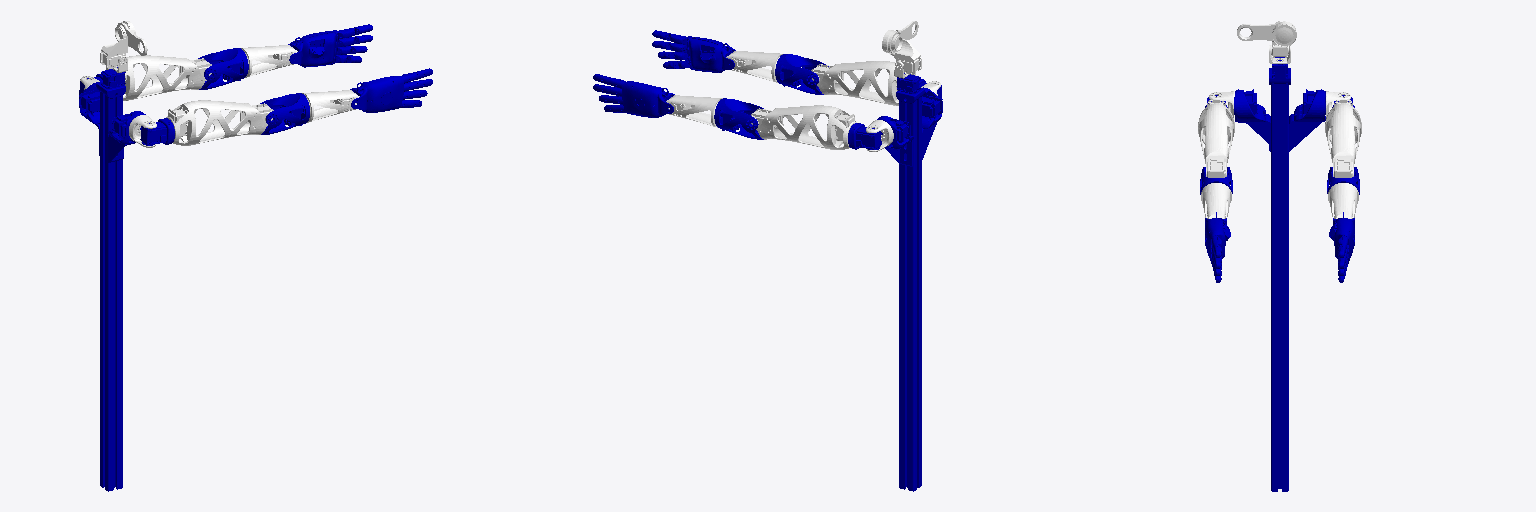
robot.urdf — Leachy w hand:
<?xml version="1.0"?>
<robot name="Leachy w hand">

  <material name="blue">
    <color rgba="0 0 0.8 1"/>
  </material>

  <material name="white">
    <color rgba="1 1 1 1"/>
  </material>

  <material name="red">
    <color rgba="0.8 0 0 1"/>
  </material>
<link name="world" />
<link name="base">
    <visual>
      <geometry>
        <mesh filename="package://meshes/trunk-visual.stl"></mesh>
      </geometry>
      <material name="blue"/>
    </visual>
    <inertial>
      <inertia ixx= "1.043e-4" ixy= "6.147e-6" ixz= "-1.971e-6" iyy= "1.364e-4" iyz= "1.466e-5" izz= "1.403e-4" ></inertia>
      <mass value="0.221"></mass>
    </inertial>
    <collision>
      <origin xyz="0 0 0" rpy="0 0 0"></origin>
      <geometry>
        <mesh filename="package://meshes/trunk-respondable.stl"></mesh>
      </geometry>
    </collision>
  </link>
  <joint name="world_to_base_link" type="fixed">
    <parent link="world"/>
    <child link="base"/>
  </joint>
  <link name="l_shoulder">
    <visual>
      <origin xyz="0 0 0" rpy="0 0 0"></origin>
      <geometry>
        <mesh filename="package://meshes/shoulder-left-visual.stl"></mesh>
      </geometry>
      <material name="white"/>
    </visual>
    <inertial>
      <inertia ixx= "1.299e-5" ixy= "5.557e-10" ixz= "-2.973e-10" iyy= "2.323e-5" iyz= "-8.199e-8" izz= "2.227e-5" ></inertia>
      <mass value="0.036"></mass>
    </inertial>
    <collision>
      <origin xyz="0 0 0" rpy="0 0 0"></origin>
      <geometry>
        <mesh filename="package://meshes/shoulder-left-respondable.stl"></mesh>
      </geometry>
    </collision>

  </link>

  <link name="l_shoulder_to_arm">
    <visual>
      <geometry>
        <mesh filename="package://meshes/shoulder-x-visual.stl"></mesh>
      </geometry>
      <origin rpy="0 0 0" xyz="0 0 0"/>
      <material name="blue"/>
    </visual>
    <inertial>
      <inertia ixx= "6.811e-5" ixy= "-2.299e-10" ixz= "-4.502e-7" iyy= "7.593e-5" iyz= "-1.674e-9" izz= "4.248e-5" ></inertia>
      <mass value="0.155"></mass>
    </inertial>
    <collision>
      <origin xyz="0 0 0" rpy="0 0 0"></origin>
      <geometry>
        <mesh filename="package://meshes/shoulder-x-respondable.stl"></mesh>
      </geometry>
    </collision>
  </link>

  <link name="l_upper_arm">
    <visual>
      <geometry>
        <mesh filename="package://meshes/upper-arm-visual.stl"></mesh>
      </geometry>
      <origin rpy="0 0 0" xyz="0 0 0"/>
      <material name="white"/>
    </visual>
    <inertial>
      <inertia ixx= "4.171e-3" ixy= "1.333e-7" ixz= "-2.900e-4" iyy= "4.276e-3" iyz= "1.465e-6" izz= "3.177e-4" ></inertia>
      <mass value="0.430"></mass>
    </inertial>
    <collision>
      <origin xyz="0 0 0" rpy="0 0 0"></origin>
      <geometry>
        <mesh filename="package://meshes/upper-arm-respondable.stl"></mesh>
      </geometry>
    </collision>
  </link>

  <link name="l_forearm">
    <visual>
      <origin xyz="0 0 0" rpy="0 0 0"></origin>
      <geometry>
        <mesh filename="package://meshes/forearm-visual.stl"></mesh>
      </geometry>
      <origin rpy="0 0 0" xyz="0 0 0"/>
      <material name="blue"/>
    </visual>
    <inertial>
      <inertia ixx= "1.724e-4" ixy= "-1.733e-8" ixz= "1.854e-5" iyy= "1.815e-4" iyz= "-4.191e-8" izz= "9.299e-5" ></inertia>
      <mass value="0.129"></mass>
    </inertial>
    <collision>
      <origin xyz="0 0 0" rpy="0 0 0"></origin>
      <geometry>
        <mesh filename="package://meshes/forearm-respondable.stl"></mesh>
      </geometry>
    </collision>
  </link>

  <link name="l_wrist">
    <visual>
      <origin xyz="0 0 0" rpy="0 0 0"></origin>
      <geometry>
        <mesh filename="package://meshes/wrist-visual.stl"></mesh>
      </geometry>
      <origin rpy="0 0 0" xyz="0 0 0"/>
      <material name="white"/>
    </visual>
    <inertial>
      <inertia ixx= "2.215e-4" ixy= "-2.163e-8" ixz= "-4.702e-6" iyy= "2.306e-4" iyz= "-6.577e-7" izz= "5.075e-5" ></inertia>
      <mass value="0.115"></mass>
    </inertial>
    <collision>
      <origin xyz="0 0 0" rpy="0 0 0"></origin>
      <geometry>
        <mesh filename="package://meshes/wrist-respondable.stl"></mesh>
      </geometry>
    </collision>
  </link>

  <link name="l_gripper"> <!--l_open_bionics_hand-->
    <visual>
      <geometry>
        <mesh filename="package://meshes/open_bionics_hand_left-visual.stl"></mesh>
      </geometry>
      <origin rpy="0 0 0" xyz="0 0 0"/>
      <material name="blue"/>
    </visual>
    <inertial>
      <inertia ixx= "3.861e-6" ixy= "-2.805e-9" ixz= "-8.067e-8" iyy= "3.694e-6" iyz= "-7.689e-8" izz= "4.987e-6" ></inertia>
      <mass value="0.009"></mass>
    </inertial>
    <collision>
      <origin xyz="0 0 0" rpy="0 0 0"></origin>
      <geometry>
        <mesh filename="package://meshes/open_bionics_hand_left-respondable.stl"></mesh>
      </geometry>
    </collision>

  </link>


  <joint name="l_shoulder_pitch" type="revolute">
    <parent link="base"/>
    <child link="l_shoulder"/>
    <origin rpy="0 -1.5 0" xyz="0 0.14 0"/>
    <axis xyz="0 1 0"/>
    <limit lower="-1.5708" upper="3.14159"/>
  </joint>

  <joint name="l_shoulder_roll" type="revolute">
    <parent link="l_shoulder"/>
    <child link="l_shoulder_to_arm"/>
    <origin rpy="0 0 0" xyz="0 0 0"/>
    <axis xyz="1 0 0"/>
    <limit lower="-0.174533" upper="3.14159"/>
  </joint>

  <joint name="l_arm_yaw" type="revolute">
    <parent link="l_shoulder_to_arm"/>
    <child link="l_upper_arm"/>
    <origin rpy="0 0 0" xyz="0 0 0"/>
    <axis xyz="0 0 1"/>
    <limit lower="-1.5708" upper="1.5708"/>
  </joint>

  <joint name="l_elbow_pitch" type="revolute">
    <parent link="l_upper_arm"/>
    <child link="l_forearm"/>
    <origin rpy="0 0 0" xyz="0 0 -0.30745"/>
    <axis xyz="0 1 0"/>
    <limit lower="-2.18166" upper="0"/>
  </joint>

  <joint name="l_forearm_yaw" type="revolute">
    <parent link="l_forearm"/>
    <child link="l_wrist"/>
    <origin rpy="0 0 0" xyz="0 0 0"/>
    <axis xyz="0 0 1"/>
    <limit lower="-2.61799" upper="2.61799"/>
  </joint>

  <joint name="l_wrist_pitch" type="revolute">
    <parent link="l_wrist"/>
    <child link="l_gripper"/>
    <origin rpy="0 0 0" xyz="0 0 -0.22415"/>
    <axis xyz="0 1 0"/>
    <limit lower="-1.22173" upper="1.22173"/>
  </joint>

   <link name="r_shoulder">
    <visual>
      <origin xyz="0 0 0" rpy="0 0 0"></origin>
      <geometry>
        <mesh filename="package://meshes/shoulder-visual.stl"></mesh>
      </geometry>
      <material name="white"/>
    </visual>
    <inertial>
      <inertia ixx= "1.299e-5" ixy= "5.557e-10" ixz= "-2.973e-10" iyy= "2.323e-5" iyz= "-8.199e-8" izz= "2.227e-5" ></inertia>
      <mass value="0.036"></mass>
    </inertial>
    <collision>
      <origin xyz="0 0 0" rpy="0 0 0"></origin>
      <geometry>
        <mesh filename="package://meshes/shoulder-respondable.stl"></mesh>
      </geometry>
    </collision>
  </link>

  <link name="r_shoulder_to_arm">
    <visual>
      <geometry>
        <mesh filename="package://meshes/shoulder-x-visual.stl"></mesh>
      </geometry>
      <origin rpy="0 0 0" xyz="0 0 0"/>
      <material name="blue"/>
    </visual>
    <inertial>
      <inertia ixx= "6.811e-5" ixy= "-2.299e-10" ixz= "-4.502e-7" iyy= "7.593e-5" iyz= "-1.674e-9" izz= "4.248e-5" ></inertia>
      <mass value="0.155"></mass>
    </inertial>
    <collision>
      <origin xyz="0 0 0" rpy="0 0 0"></origin>
      <geometry>
        <mesh filename="package://meshes/shoulder-x-respondable.stl"></mesh>
      </geometry>
    </collision>
  </link>

  <link name="r_upper_arm">
    <visual>
      <geometry>
        <mesh filename="package://meshes/upper-arm-visual.stl"></mesh>
      </geometry>
      <origin rpy="0 0 0" xyz="0 0 0"/>
      <material name="white"/>
    </visual>
    <inertial>
      <inertia ixx= "4.171e-3" ixy= "1.333e-7" ixz= "-2.900e-4" iyy= "4.276e-3" iyz= "1.465e-6" izz= "3.177e-4" ></inertia>
      <mass value="0.430"></mass>
    </inertial>
    <collision>
      <origin xyz="0 0 0" rpy="0 0 0"></origin>
      <geometry>
        <mesh filename="package://meshes/upper-arm-respondable.stl"></mesh>
      </geometry>
    </collision>
  </link>

  <link name="r_forearm">
    <visual>
      <origin xyz="0 0 0" rpy="0 0 0"></origin>
      <geometry>
        <mesh filename="package://meshes/forearm-visual.stl"></mesh>
      </geometry>
      <origin rpy="0 0 0" xyz="0 0 0"/>
      <material name="blue"/>
    </visual>
    <inertial>
      <inertia ixx= "1.724e-4" ixy= "-1.733e-8" ixz= "1.854e-5" iyy= "1.815e-4" iyz= "-4.191e-8" izz= "9.299e-5" ></inertia>
      <mass value="0.129"></mass>
    </inertial>
    <collision>
      <origin xyz="0 0 0" rpy="0 0 0"></origin>
      <geometry>
        <mesh filename="package://meshes/forearm-respondable.stl"></mesh>
      </geometry>
    </collision>
  </link>

  <link name="gripper"> <!--r_wrist-->
    <visual>
      <origin xyz="0 0 0" rpy="0 0 0"></origin>
      <geometry>
        <mesh filename="package://meshes/wrist-visual.stl"></mesh>
      </geometry>
      <origin rpy="0 0 0" xyz="0 0 0"/>
      <material name="white"/>
    </visual>
    <inertial>
      <inertia ixx= "2.215e-4" ixy= "-2.163e-8" ixz= "-4.702e-6" iyy= "2.306e-4" iyz= "-6.577e-7" izz= "5.075e-5" ></inertia>
      <mass value="0.115"></mass>
    </inertial>
    <collision>
      <origin xyz="0 0 0" rpy="0 0 0"></origin>
      <geometry>
        <mesh filename="package://meshes/wrist-respondable.stl"></mesh>
      </geometry>
    </collision>
  </link>

  <link name="end_effector"> <!--r_open_bionics_hand-->
    <visual>
      <geometry>
        <mesh filename="package://meshes/open_bionics_hand_right-visual.stl"></mesh>
      </geometry>
      <origin rpy="0 0 0" xyz="0 0 0"/>
      <material name="blue"/>
    </visual>
    <inertial>
      <inertia ixx= "3.861e-6" ixy= "-2.805e-9" ixz= "-8.067e-8" iyy= "3.694e-6" iyz= "-7.689e-8" izz= "4.987e-6" ></inertia>
      <mass value="0.009"></mass>
    </inertial>
    <collision>
      <origin xyz="0 0 0" rpy="0 0 0"></origin>
      <geometry>
        <mesh filename="package://meshes/open_bionics_hand_right-respondable.stl"></mesh>
      </geometry>
    </collision>

  </link>



  <joint name="r_shoulder_pitch" type="revolute">
    <parent link="base"/>
    <child link="r_shoulder"/>
    <origin rpy="0 -1.5 0" xyz="0 -0.14 0"/>
    <axis xyz="0 1 0"/>
    <limit lower="-1.5708" upper="3.14159"/>
  </joint>

  <joint name="r_shoulder_roll" type="revolute">
    <parent link="r_shoulder"/>
    <child link="r_shoulder_to_arm"/>
    <origin rpy="0 0 0" xyz="0 0 0"/>
    <axis xyz="1 0 0"/>
    <limit lower="-3.14159" upper="0.174533"/>
  </joint>

  <joint name="r_arm_yaw" type="revolute">
    <parent link="r_shoulder_to_arm"/>
    <child link="r_upper_arm"/>
    <origin rpy="0 0 0" xyz="0 0 0"/>
    <axis xyz="0 0 1"/>
    <limit lower="-1.5708" upper="1.5708"/>
  </joint>

  <joint name="r_elbow_pitch" type="revolute">
    <parent link="r_upper_arm"/>
    <child link="r_forearm"/>
    <origin rpy="0 0 0" xyz="0 0 -0.30745"/>
    <axis xyz="0 1 0"/>
    <limit lower="-2.18166" upper="0"/>
  </joint>

  <joint name="r_forearm_yaw" type="revolute">
    <parent link="r_forearm"/>
    <child link="gripper"/>
    <origin rpy="0 0 0" xyz="0 0 0"/>
    <axis xyz="0 0 1"/>
    <limit lower="-2.61799" upper="2.61799"/>
  </joint>

  <joint name="r_wrist_pitch" type="revolute">
    <parent link="gripper"/>
    <child link="end_effector"/>
    <origin rpy="0 0 0" xyz="0 0 -0.22425"/>
    <axis xyz="0 1 0"/>
    <limit lower="-1.22173" upper="1.22173"/>
  </joint>



  <link name="head_U">
    <visual>
      <origin xyz="0 0 0" rpy="0 0 0"></origin>
      <geometry>
        <mesh filename="package://meshes/head_u-visual.stl"></mesh>
      </geometry>
      <material name="white"/>
    </visual>
    <inertial>
      <inertia ixx= "1.299e-5" ixy= "5.557e-10" ixz= "-2.973e-10" iyy= "2.323e-5" iyz= "-8.199e-8" izz= "2.227e-5" ></inertia>
      <mass value="0.036"></mass>
    </inertial>
    <!-- <collision>
      <origin xyz="0 0 0" rpy="0 0 0"></origin>
      <geometry>
        <mesh filename="package://meshes/shoulder-respondable.stl"></mesh>
      </geometry>
    </collision> -->
  </link>

  <link name="head_eyes">
    <visual>
      <origin xyz="0 0 0" rpy="0 0 0"></origin>
      <geometry>
        <mesh filename="package://meshes/head-eyes-visual.stl"></mesh>
      </geometry>
      <material name="white"/>
    </visual>
    <inertial>
      <inertia ixx= "1.299e-5" ixy= "5.557e-10" ixz= "-2.973e-10" iyy= "2.323e-5" iyz= "-8.199e-8" izz= "2.227e-5" ></inertia>
      <mass value="0.036"></mass>
    </inertial>
    <collision>
      <origin xyz="0 0 0" rpy="0 0 0"></origin>
      <geometry>
        <mesh filename="package://meshes/head-eyes-respondable.stl"></mesh>
      </geometry>
    </collision>
  </link>

    <joint name="head_yaw" type="revolute">
    <parent link="base"/>
    <child link="head_U"/>
    <origin rpy="0 0 0" xyz="0 0 0.13775"/>
    <axis xyz="0 0 1"/>
    <limit lower="-1.5708" upper="3.14159"/>
  </joint>

    <joint name="head_pitch" type="revolute">
    <parent link="head_U"/>
    <child link="head_eyes"/>
    <origin rpy="0 0 0" xyz="0 0 0"/>
    <axis xyz="0 1 0"/>
    <limit lower="-3.14159" upper="0.174533"/>
  </joint>

</robot>

--- Render facts (derived) ---
Views: 3 orthographic renders of the robot side by side, from view 1: azimuth 30°, elevation 25°; view 2: azimuth 150°, elevation 25°; view 3: azimuth 270°, elevation 25°.
Robot: Leachy w hand — 16 links, 15 joints (14 revolute, 1 fixed); root link world; default pose: all joints at 0.
Visible links, largest first — view 1: base, r_upper_arm, l_upper_arm, l_gripper, end_effector, l_forearm, r_forearm, head_eyes, gripper, l_wrist, r_shoulder_to_arm; view 2: base, l_upper_arm, r_upper_arm, end_effector, l_gripper, r_forearm, l_forearm, head_eyes, l_wrist, gripper, l_shoulder_to_arm; view 3: base, l_upper_arm, r_upper_arm, head_eyes, end_effector, l_gripper, l_wrist, gripper.
Link boxes in pixels (x1,y1,x2,y2): base: (79, 67, 145, 491); r_upper_arm: (166, 100, 273, 145); l_upper_arm: (106, 55, 211, 100); l_gripper: (288, 24, 372, 67); end_effector: (350, 68, 432, 112); l_forearm: (198, 48, 248, 89); r_forearm: (260, 93, 309, 134); head_eyes: (100, 21, 147, 68); gripper: (302, 90, 359, 122); l_wrist: (241, 45, 297, 77); r_shoulder_to_arm: (140, 118, 174, 145); base: (877, 73, 942, 491); l_upper_arm: (751, 105, 856, 149); r_upper_arm: (811, 61, 915, 105); end_effector: (652, 30, 735, 72); l_gripper: (593, 74, 674, 117); r_forearm: (775, 54, 828, 94); l_forearm: (714, 98, 763, 139); head_eyes: (882, 21, 921, 74); l_wrist: (666, 95, 722, 127); gripper: (726, 51, 782, 82); l_shoulder_to_arm: (848, 123, 881, 149); base: (1234, 57, 1325, 491); l_upper_arm: (1325, 100, 1361, 177); r_upper_arm: (1198, 100, 1234, 177); head_eyes: (1237, 21, 1296, 57); end_effector: (1205, 212, 1230, 282); l_gripper: (1329, 212, 1354, 282); l_wrist: (1328, 183, 1358, 218); gripper: (1201, 183, 1231, 218).
Size in the robot's own frame: 0.7966 by 0.3611 by 1.15 metres.
15 mesh visuals loaded from 11 distinct referenced files (11 binary STL).
